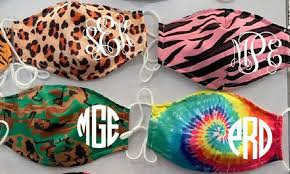cloth_mask: (143, 89, 290, 174)
